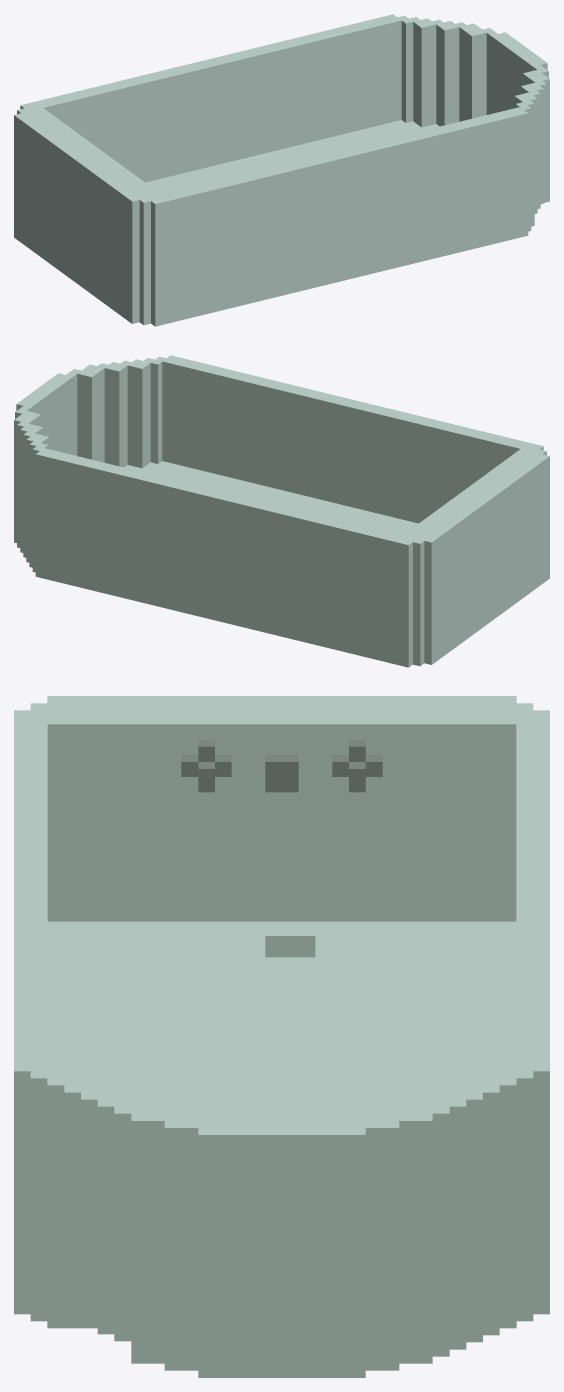
Rendered from Bain.obj.
3 renders of one model, top to bottom at view 1: azimuth 30°, elevation 25°; view 2: azimuth 150°, elevation 25°; view 3: azimuth 270°, elevation 25°, orthographic. The views are drawn at different scales.
Visible parts, largest first — view 1: Bain; view 2: Bain; view 3: Bain.
Boxes of the visible parts, x1,y1,x2,y2 form: Bain: (14,14,549,326); Bain: (14,355,549,667); Bain: (14,696,549,1377).
Size of the model in its own units: 62 by 16 by 32.
1 material, 1 textured.
